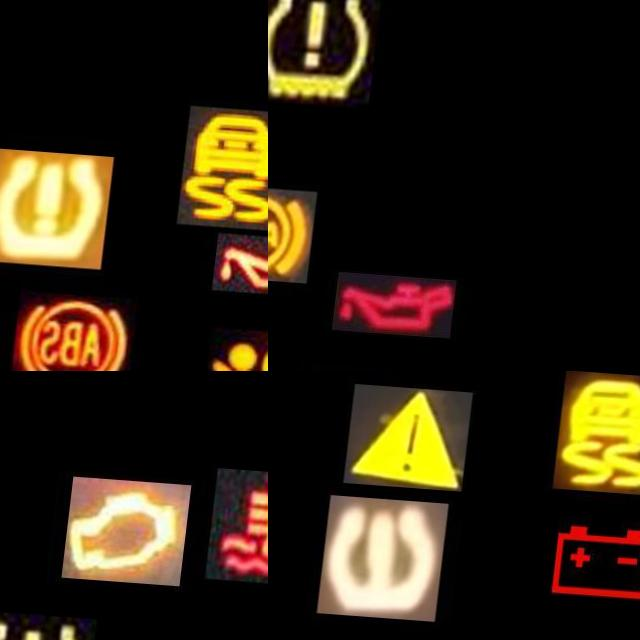Central Warning lamp: (350, 382, 477, 488)
Engine cooling system: (211, 460, 268, 578)
